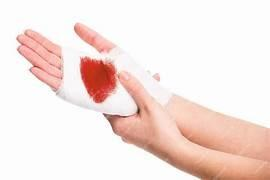Bandage: (56, 47, 171, 115)
cotton: (56, 48, 137, 115)
